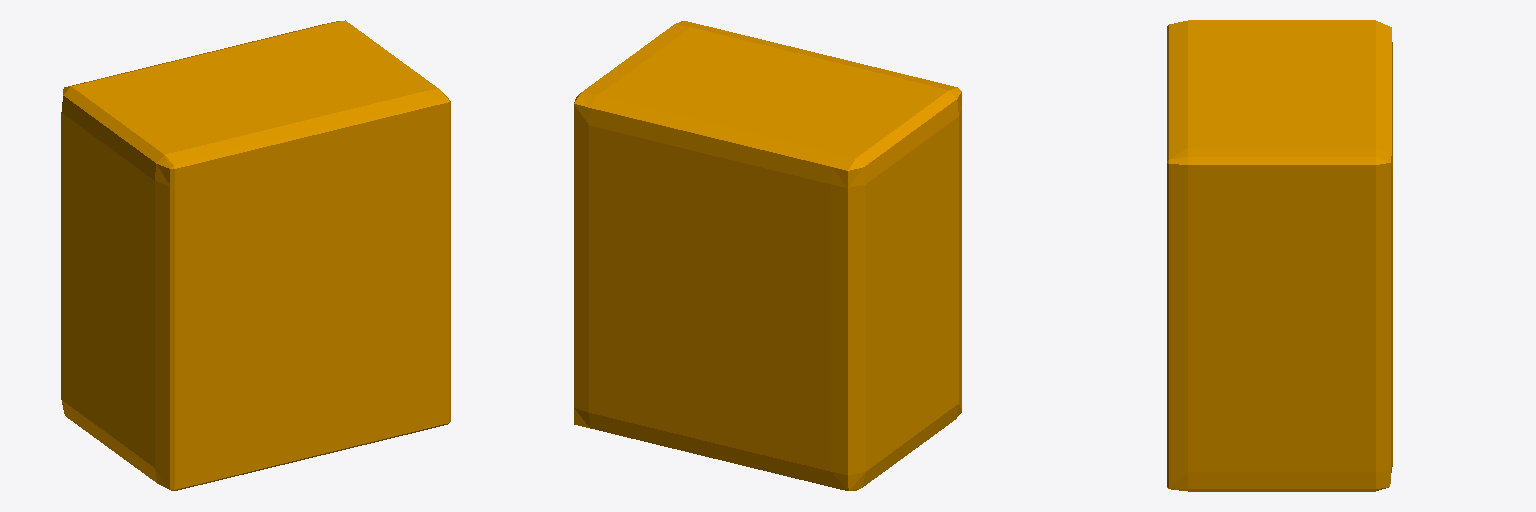
URDF robot description (cylinder_box_2):
<?xml version="1.0" encoding="utf-8"?>  <robot name="cylinder_box_2">   <link name="cylinder_box_2">     <visual>       <geometry>         <mesh filename="../meshes/box/box_2.stl" scale="1 1 1"/>       </geometry>     </visual>     <collision>       <geometry>         <mesh filename="../meshes/box/box_2.stl" scale="1 1 1"/>       </geometry>     </collision>     <inertial>        <origin         xyz="0 0 0"         rpy="0 0 0" />       <mass value="0.5256411365183548"/>       <origin rpy="0 0 0" xyz="0 0 0"/>       <inertia ixx="0.0005766907086901744" ixy="1.550680467136682e-07" ixz="1.3762056229619745e-07" iyy="0.0007682450449433508" iyz="-1.3391034655790913e-07" izz="0.0005048320514620864"/>     </inertial>   </link>  </robot>

--- Render facts (derived) ---
3 views of the same robot in one strip: view 1: azimuth 30°, elevation 25°; view 2: azimuth 150°, elevation 25°; view 3: azimuth 270°, elevation 25° (orthographic).
Model cylinder_box_2 with 1 links and 0 joints (none), rooted at cylinder_box_2, posed all joints at 0.
Visible links, largest first — view 1: cylinder_box_2; view 2: cylinder_box_2; view 3: cylinder_box_2.
Link boxes in pixels (x1,y1,x2,y2): cylinder_box_2: [61, 20, 450, 490]; cylinder_box_2: [574, 21, 961, 490]; cylinder_box_2: [1167, 20, 1392, 491].
Size in the robot's own frame: 0.0896 by 0.0602 by 0.0983 metres.
Meshes: 1 distinct files referenced, 1 mesh visuals loaded (1 binary STL).